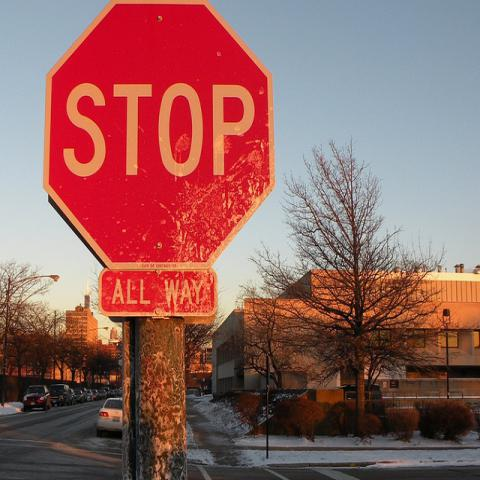car: (94, 395, 125, 438), (22, 385, 51, 411), (48, 384, 71, 407), (75, 389, 85, 404), (69, 389, 77, 406), (83, 390, 94, 402), (101, 386, 111, 398), (98, 390, 107, 400), (91, 390, 99, 400), (114, 390, 123, 394), (110, 390, 115, 395)
